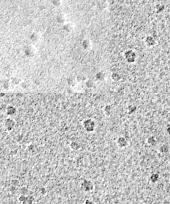rosette_object: (61, 74, 95, 93), (123, 49, 136, 63), (82, 118, 95, 132)
